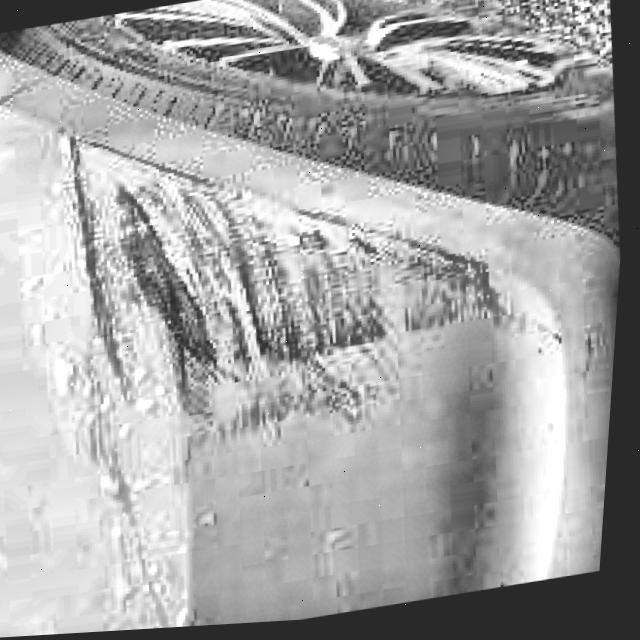bumper_scratch: (43, 67, 525, 467)
